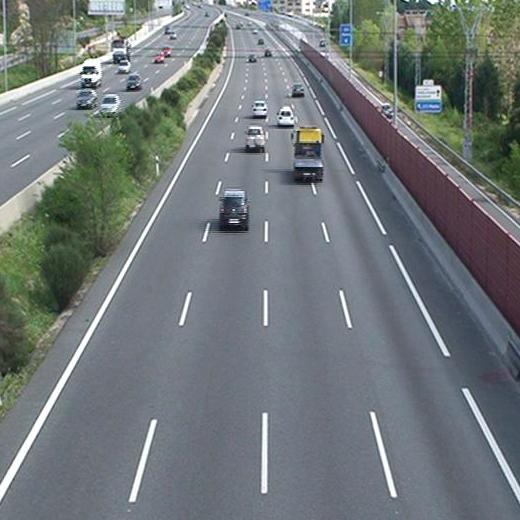car: (218, 190, 248, 229), (243, 126, 266, 152), (276, 106, 295, 127), (252, 99, 268, 116), (292, 83, 306, 97)
small-truck: (290, 126, 327, 180)
